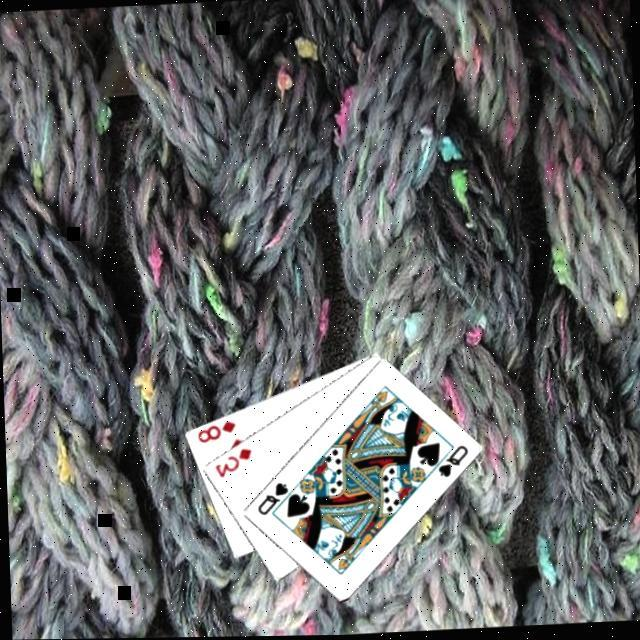3D: (209, 446, 252, 482)
8D: (191, 419, 237, 448)
QS: (251, 481, 289, 520), (432, 443, 469, 482)
